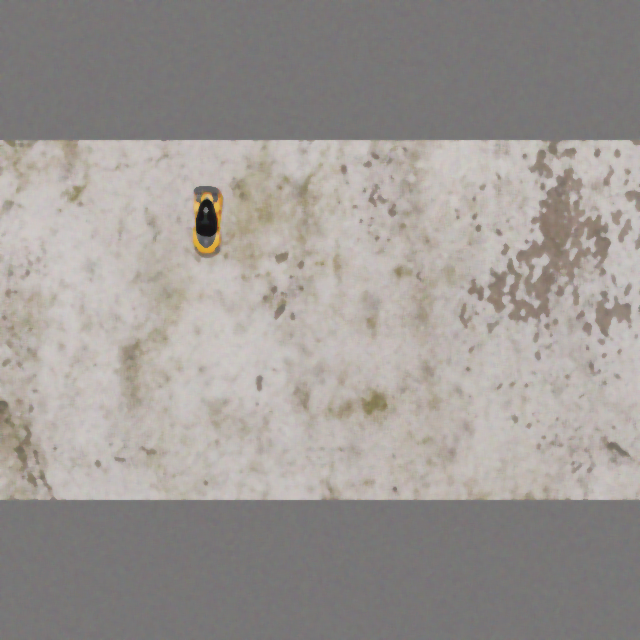car: (189, 185, 224, 255)
